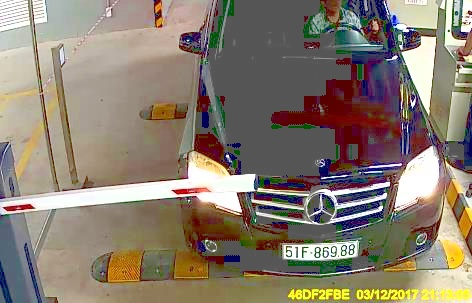plate: (282, 237, 360, 260)
